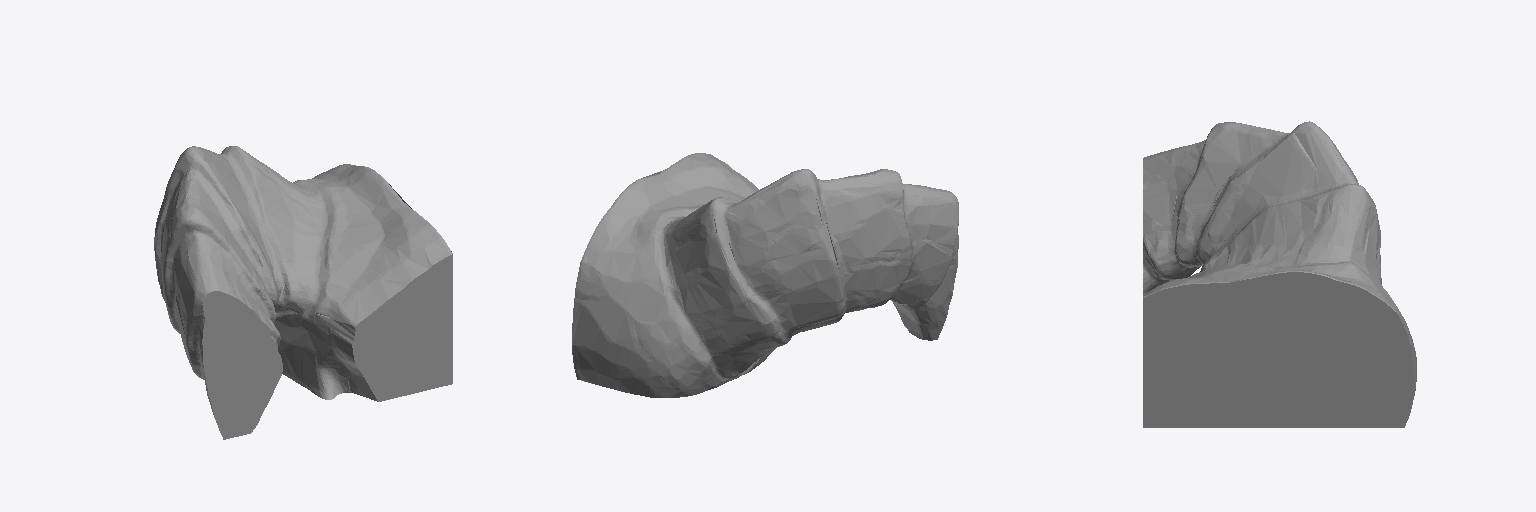
Rendered from Skull_1.obj.
3 views of the same model, side by side, from view 1: azimuth 30°, elevation 25°; view 2: azimuth 150°, elevation 25°; view 3: azimuth 270°, elevation 25° (orthographic).
Parts seen in each view (by area): view 1: DeathClawSKULL.006; view 2: DeathClawSKULL.006; view 3: DeathClawSKULL.006.
Boxes of the visible parts, x1=… form: DeathClawSKULL.006: x1=154, y1=146, x2=452, y2=439; DeathClawSKULL.006: x1=572, y1=153, x2=958, y2=397; DeathClawSKULL.006: x1=1143, y1=121, x2=1416, y2=427.
Bounding box in the file's own units: 1.31 × 1.06 × 1.21.